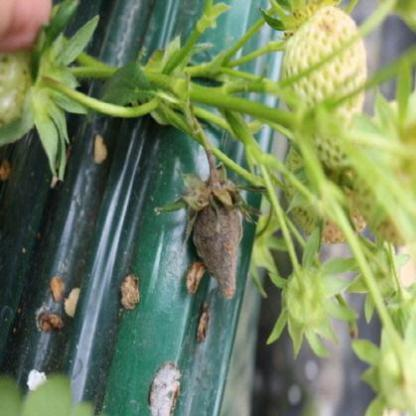Strawberry_Gray_Mold: (179, 151, 267, 302)
